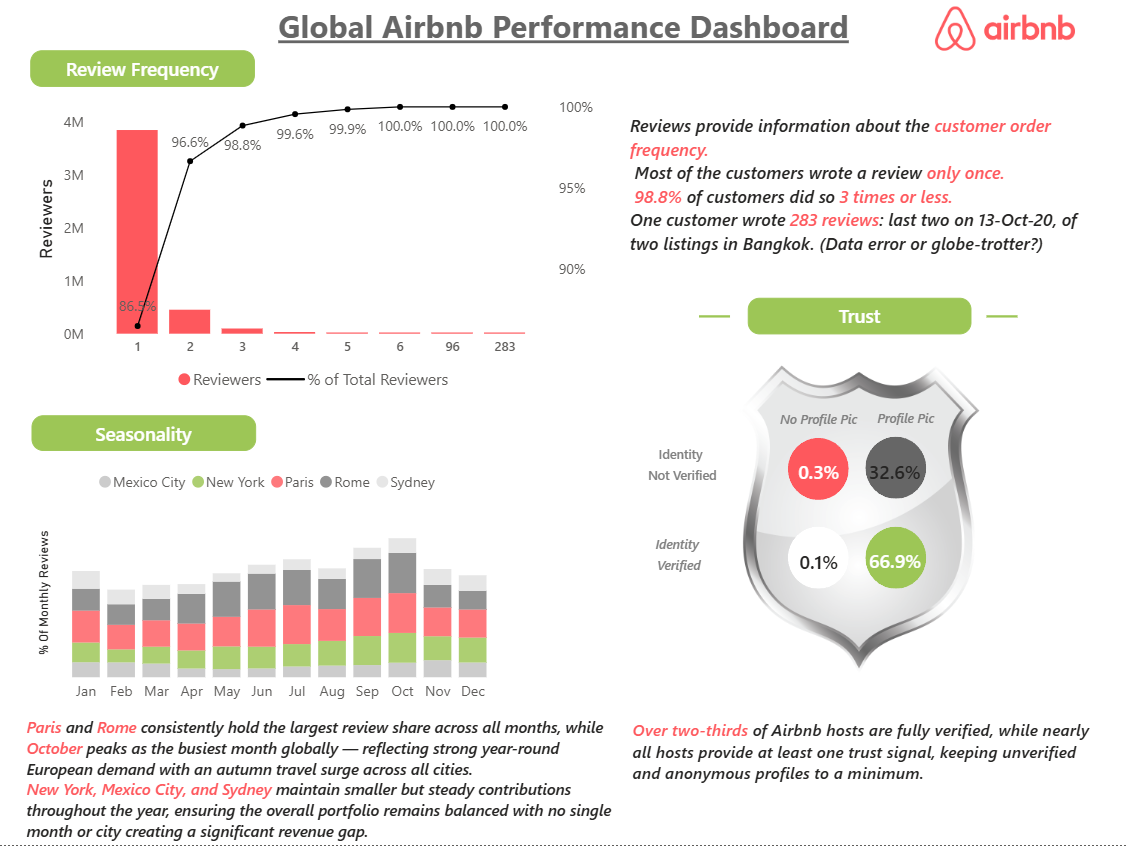

What the dashboard file says about the page in this screenshot:
{"tool":"powerbi","page":{"name":"Reviews","canvas":[960,720],"ordinal":2},"visuals":[{"type":"image","box":[531.4,235.2,400.3,416.1],"z":0},{"type":"textbox","box":[637.2,254.4,190.7,31],"z":0,"group":"g1"},{"type":"textbox","box":[226.1,0,507.7,51.7],"z":1000},{"type":"shape","box":[595.8,242.9,26.4,55.1],"z":1000,"group":"g1"},{"type":"image","box":[789.2,6.8,133.4,37.3],"z":2000},{"type":"shape","box":[840.5,242.9,26.4,55.1],"z":2000,"group":"g1"},{"type":"textbox","box":[27,44,191,31],"z":3000},{"type":"group","id":"g1","title":"Title","box":[595.8,242.9,272.5,55.4],"z":4000},{"type":"lineStackedColumnComboChart","fields":{"Y":["Reviews.Reviewers"],"Category":["Reviews.Reviews per Reviewer"],"Y2":["Reviews.Cumulative % review frequency"]},"box":[27.1,75.8,483.9,266.8],"z":6000},{"type":"textbox","box":[531.4,92.7,412.7,133.4],"z":7000},{"type":"textbox","box":[650.1,342.6,95,33.9],"z":8000},{"type":"textbox","box":[738.3,341.5,66.7,33.9],"z":9000},{"type":"shape","box":[737.2,449,52,53.1],"z":9000,"group":"g2"},{"type":"textbox","box":[519,448.9,118.7,53.1],"z":10000},{"type":"shape","box":[671.6,449,52,53.1],"z":10000,"group":"g2"},{"type":"group","id":"g2","title":"Group 1","box":[671.6,372.1,117.6,130],"z":11000},{"type":"shape","box":[737.2,372.1,52,53.1],"z":11000,"group":"g2"},{"type":"textbox","box":[525.8,372,111.9,47.5],"z":12000},{"type":"shape","box":[671.6,373.1,52,53.1],"z":12000,"group":"g2"},{"type":"cardVisual","fields":{"Data":["Listings.NotVerified_NoProfile %"]},"box":[644.5,373.1,106.3,55.4],"z":13000},{"type":"cardVisual","fields":{"Data":["Listings.NotVerified_HasProfile %"]},"box":[704.4,369.7,116.5,61.1],"z":14000},{"type":"cardVisual","fields":{"Data":["Listings.Verifie_HasProfile %"]},"box":[710.1,448.9,106.3,55.4],"z":15000},{"type":"cardVisual","fields":{"Data":["Listings.Verified_NoProfile %"]},"box":[644.5,450,106.3,55.4],"z":16000},{"type":"textbox","box":[27.1,353.9,191.1,30.5],"z":17000},{"type":"textbox","box":[533.7,607.2,399.1,88.2],"z":18000},{"type":"columnChart","fields":{"Y":["Reviews.% Of Monthly Reviews"],"Category":["Reviews.Review Month"],"Series":["Listings.city"]},"box":[27.1,391.2,404.8,216],"z":18002},{"type":"textbox","box":[23.7,610.6,502,109.7],"z":18003}]}

Visuals, with their boxes in screenshot pixels (x1, y1, x2, y2), scaled from the page's 960x720 canvas onto the 1126x846 screenshot:
image: region(623, 276, 1093, 765)
textbox: region(747, 299, 971, 335)
textbox: region(265, 0, 861, 61)
shape: region(699, 285, 730, 350)
image: region(926, 8, 1082, 52)
shape: region(986, 285, 1017, 350)
textbox: region(32, 52, 256, 88)
"Title" group: region(699, 285, 1018, 351)
lineStackedColumnComboChart - Reviews.Reviewers x Reviews.Reviews per Reviewer: region(32, 89, 599, 403)
textbox: region(623, 109, 1107, 266)
textbox: region(763, 403, 874, 442)
textbox: region(866, 401, 944, 441)
shape: region(865, 528, 926, 590)
textbox: region(609, 527, 748, 590)
shape: region(788, 528, 849, 590)
"Group 1" group: region(788, 437, 926, 590)
shape: region(865, 437, 926, 500)
textbox: region(617, 437, 748, 493)
shape: region(788, 438, 849, 501)
cardVisual - Listings.NotVerified_NoProfile %: region(756, 438, 881, 503)
cardVisual - Listings.NotVerified_HasProfile %: region(826, 434, 963, 506)
cardVisual - Listings.Verifie_HasProfile %: region(833, 527, 958, 593)
cardVisual - Listings.Verified_NoProfile %: region(756, 529, 881, 594)
textbox: region(32, 416, 256, 452)
textbox: region(626, 713, 1094, 817)
columnChart - Reviews.% Of Monthly Reviews x Reviews.Review Month: region(32, 460, 507, 713)
textbox: region(28, 717, 617, 845)
